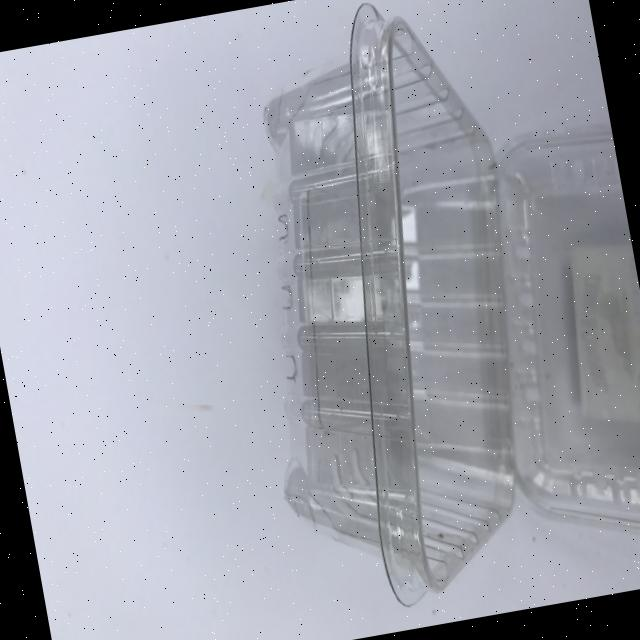plastic: (177, 0, 640, 617)
